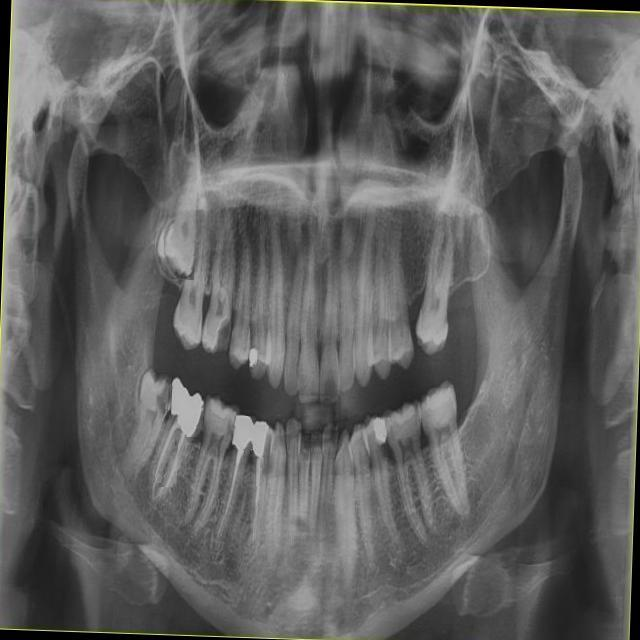dentin-curugu: (205, 308, 231, 358)
dolgu: (166, 376, 204, 438), (228, 418, 255, 452), (253, 418, 272, 462), (368, 416, 392, 447), (243, 343, 262, 374)
kanal-tedavisi: (154, 421, 186, 488), (222, 450, 243, 524), (252, 450, 264, 525)
